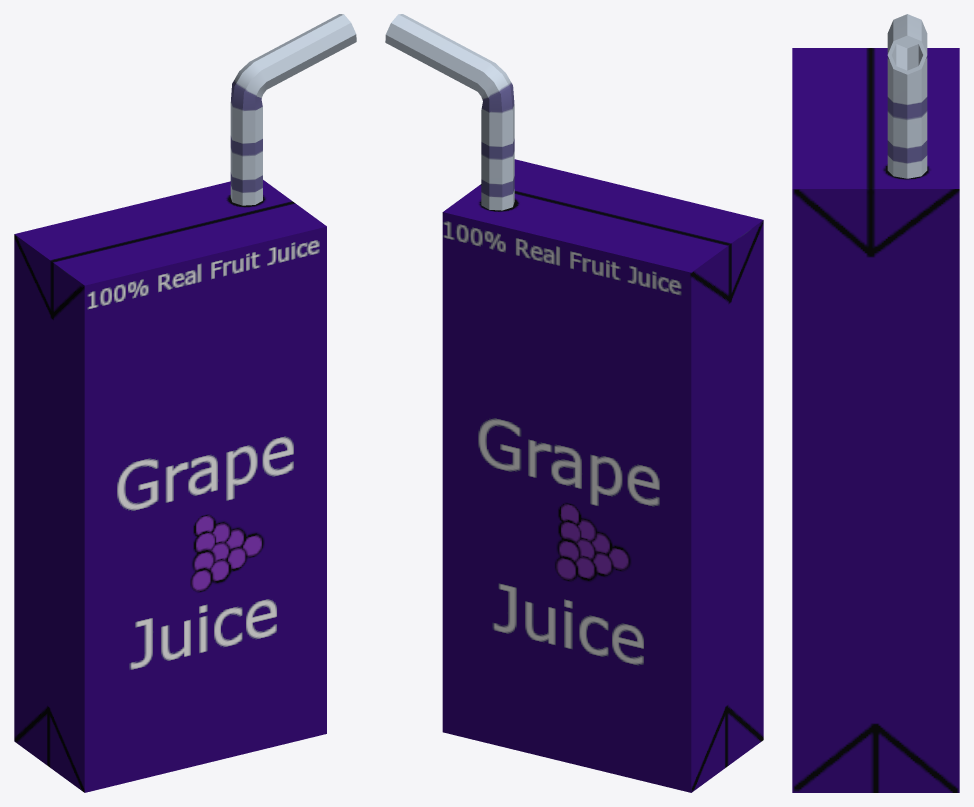
Rendered from Bennett_Juice_Box 1.fbx.
3 renders of one model, left to right at view 1: azimuth 30°, elevation 25°; view 2: azimuth 150°, elevation 25°; view 3: azimuth 270°, elevation 25°, orthographic. The views are drawn at different scales.
Parts seen in each view (by area): view 1: Juice_Box; view 2: Juice_Box; view 3: Juice_Box.
Part boxes in pixels (bbox=[...]): Juice_Box: bbox=[14, 14, 356, 792]; Juice_Box: bbox=[385, 14, 763, 792]; Juice_Box: bbox=[792, 14, 959, 792].
Bounding box in the file's own units: 0.2174 × 0.4399 × 0.084.
